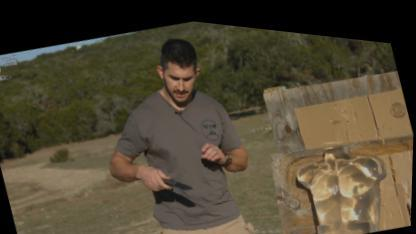knife: (138, 152, 197, 200)
